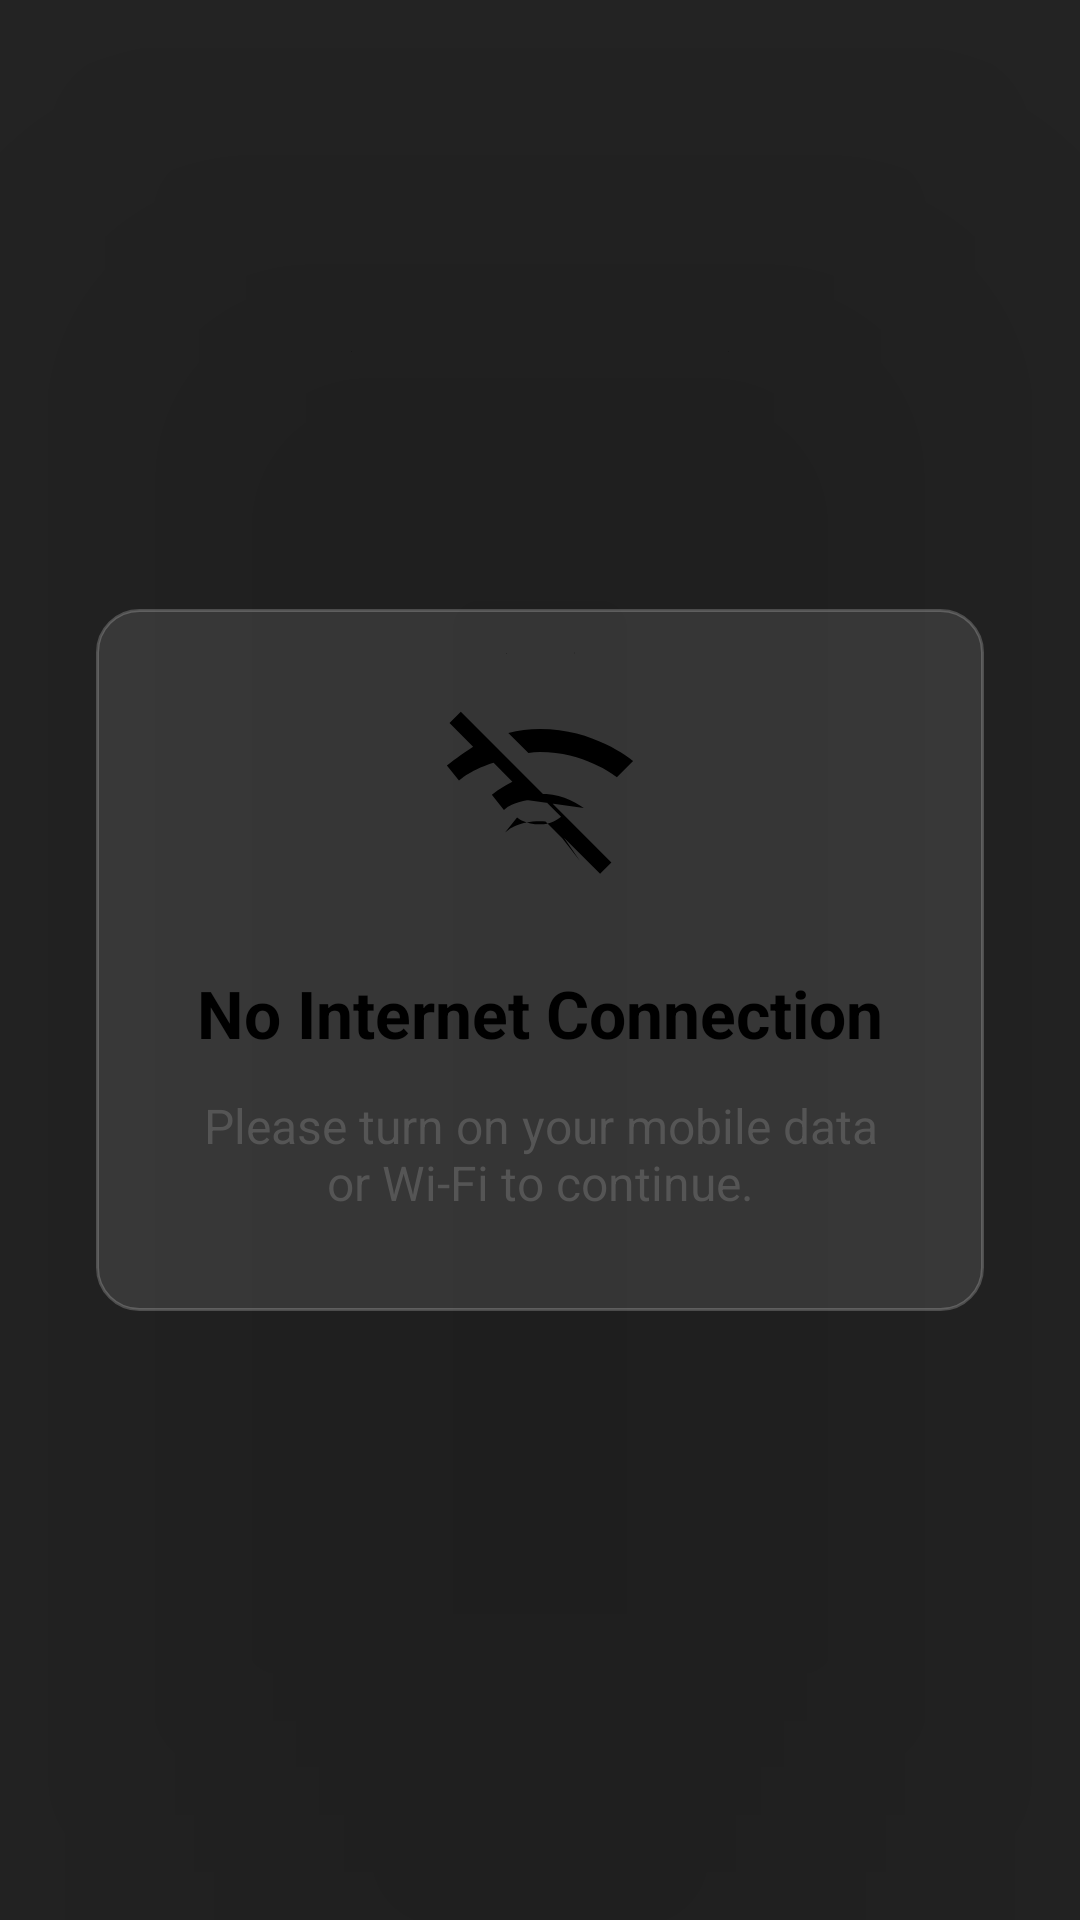

Named icons in this screenshot (1080×1920) and their bounding boxes, (x1, y1, x2, y2):
wifi off: (447, 712, 633, 873)
